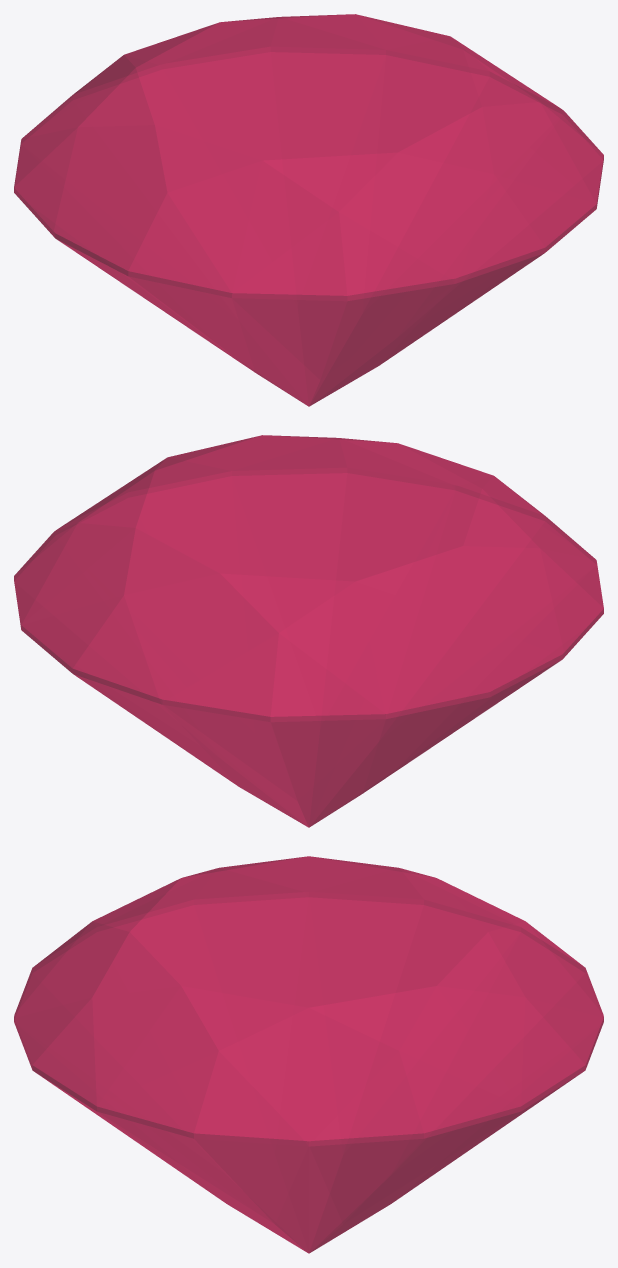
The model's file is round spinell.glb.
The picture shows the model from 3 angles, top to bottom: view 1: azimuth 30°, elevation 25°; view 2: azimuth 150°, elevation 25°; view 3: azimuth 270°, elevation 25°; orthographic projection.
Visible parts, largest first — view 1: White_1_11.008; view 2: White_1_11.008; view 3: White_1_11.008.
Boxes of the visible parts, bbox=[...] form: White_1_11.008: bbox=[14, 14, 603, 406]; White_1_11.008: bbox=[14, 435, 603, 827]; White_1_11.008: bbox=[14, 856, 603, 1253].
Bounding box in the file's own units: 1.75 × 1.05 × 1.75.
